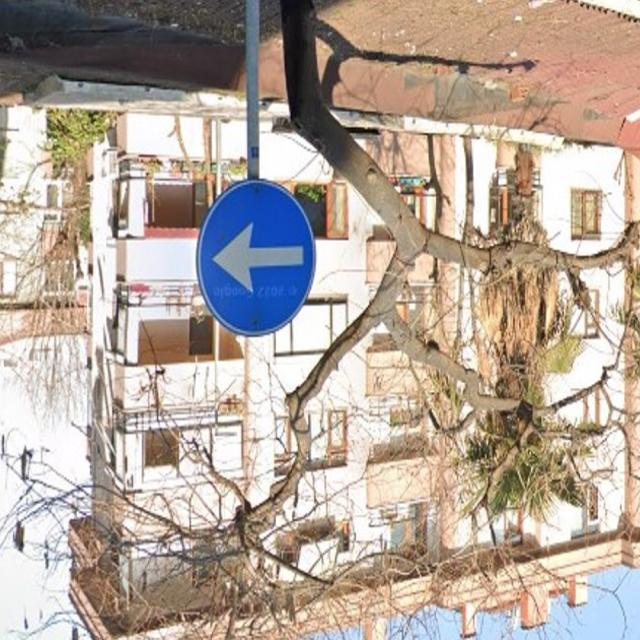Turn Left: (198, 183, 320, 345)
